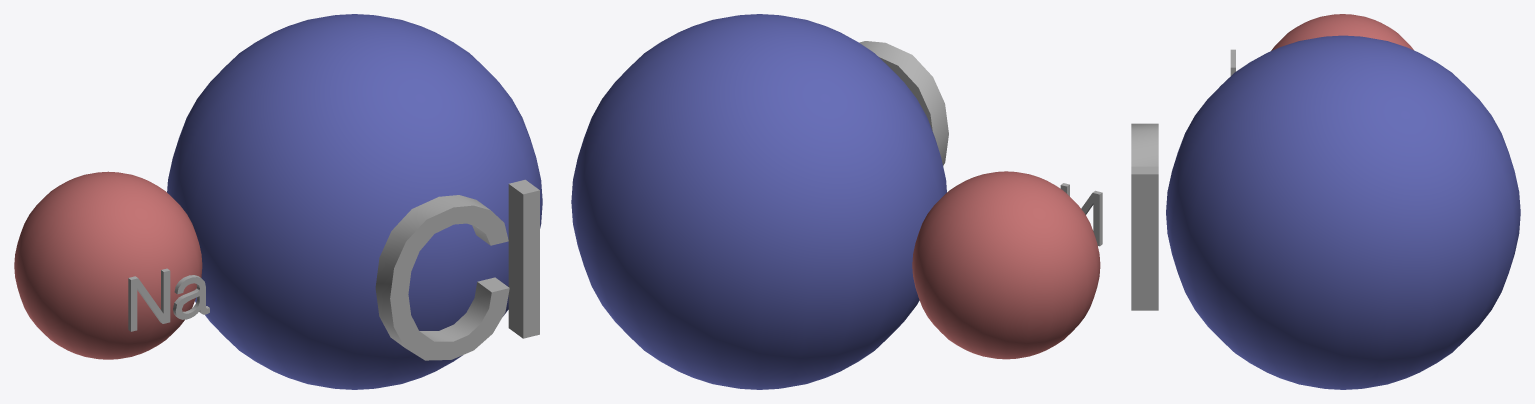
The model's file is nacl.fbx.
3 views of the same model, side by side, from view 1: azimuth 30°, elevation 25°; view 2: azimuth 150°, elevation 25°; view 3: azimuth 270°, elevation 25° (orthographic). The views are drawn at different scales.
Parts seen in each view (by area): view 1: Sphere1, Sphere, Text, NaCl; view 2: Sphere1, Sphere, Text, NaCl; view 3: Sphere1, Text, Sphere.
Part boxes in pixels (box(x1,y1,x2,y2)): Sphere1: box(167, 14, 542, 389); Sphere: box(14, 171, 202, 359); Text: box(375, 179, 539, 360); NaCl: box(128, 268, 209, 331); Sphere1: box(571, 14, 946, 389); Sphere: box(912, 171, 1100, 359); Text: box(859, 41, 948, 165); NaCl: box(1060, 183, 1102, 246); Sphere1: box(1166, 35, 1520, 389); Text: box(1131, 123, 1158, 310); Sphere: box(1271, 14, 1413, 50).
Size of the model in its own units: 1.51 by 1 by 1.1.
